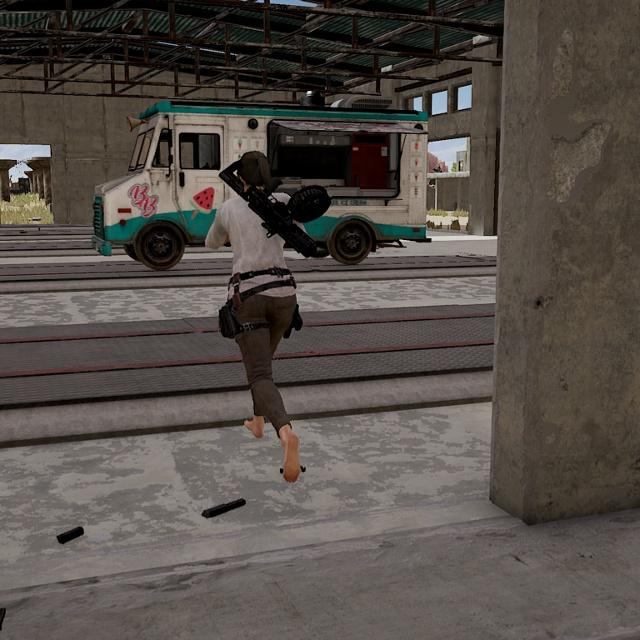head: (233, 146, 279, 201)
people: (200, 136, 315, 488)
